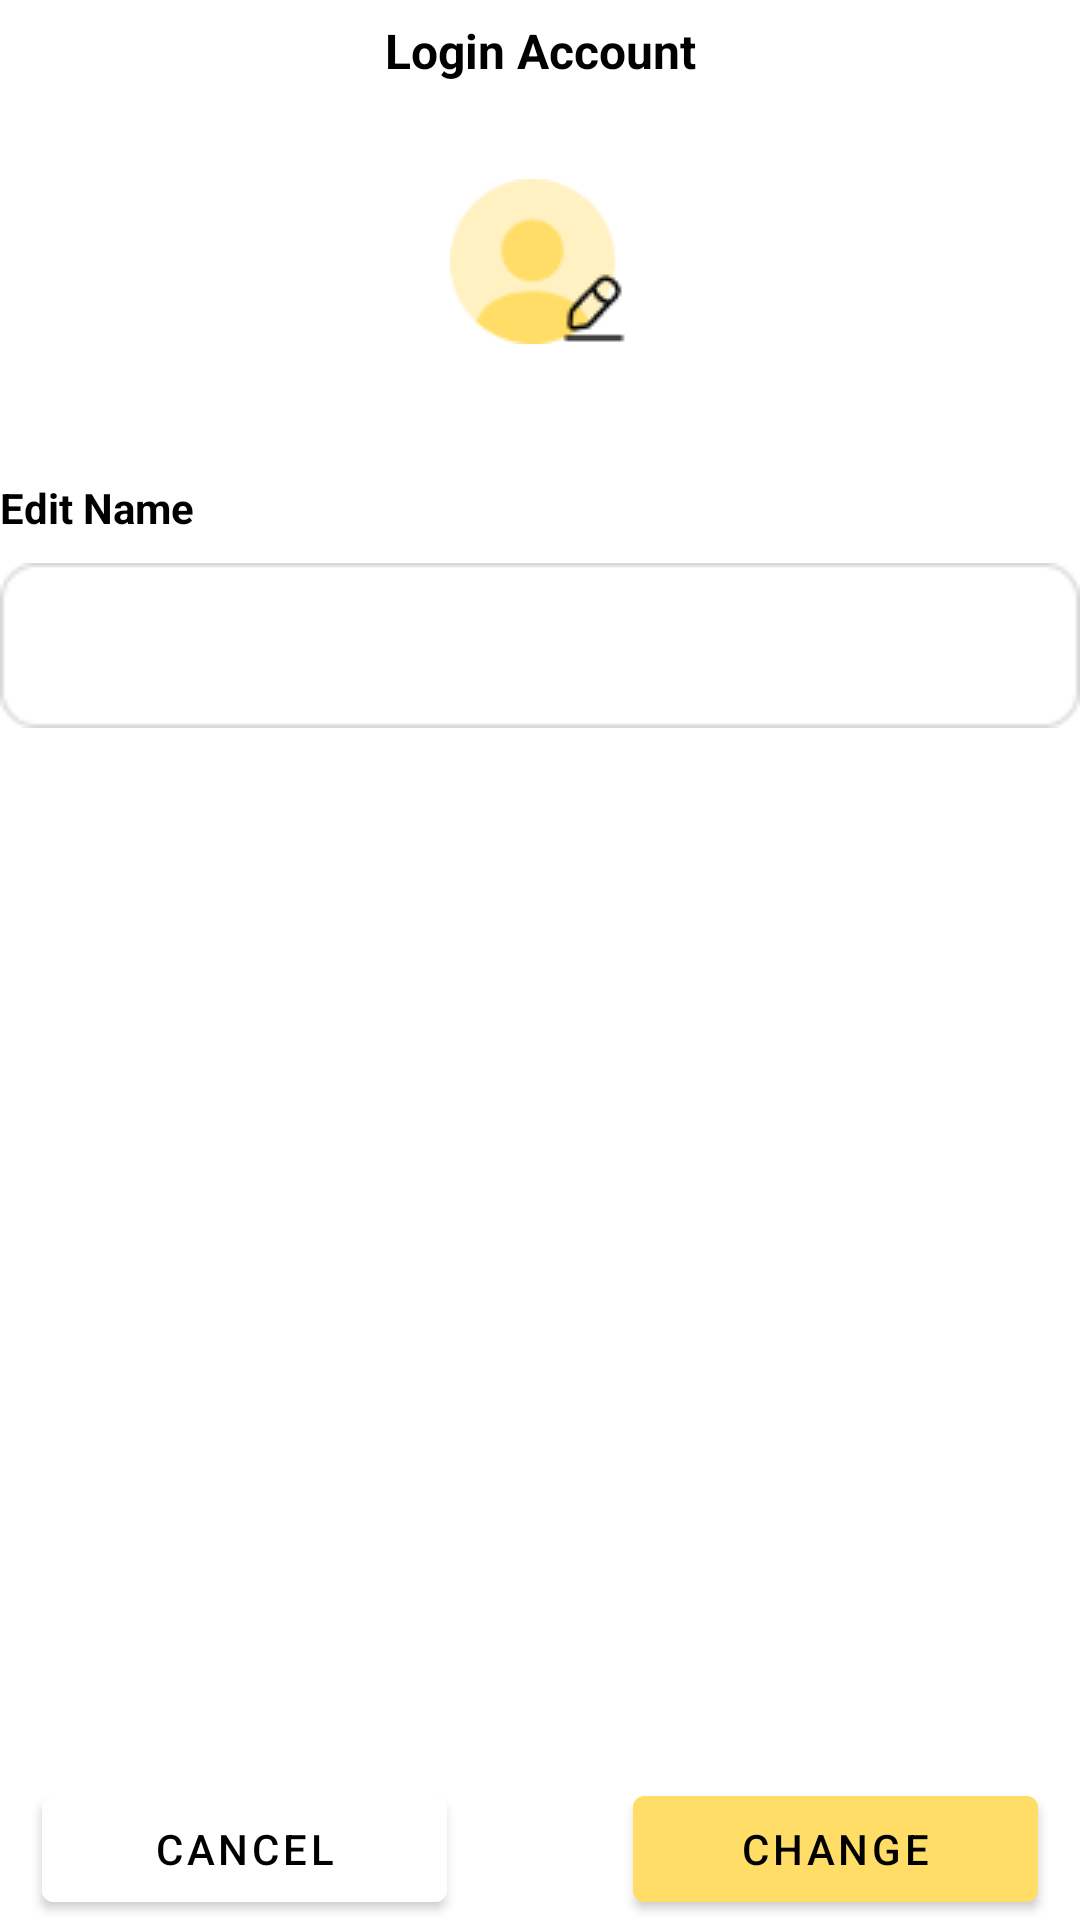

Locate icon controls on the screen. Image size 1080×1920, boxes as {"left": x1, "top": y1, "right": x2, "bottom": y2}.
edit profile: {"left": 450, "top": 179, "right": 625, "bottom": 344}
